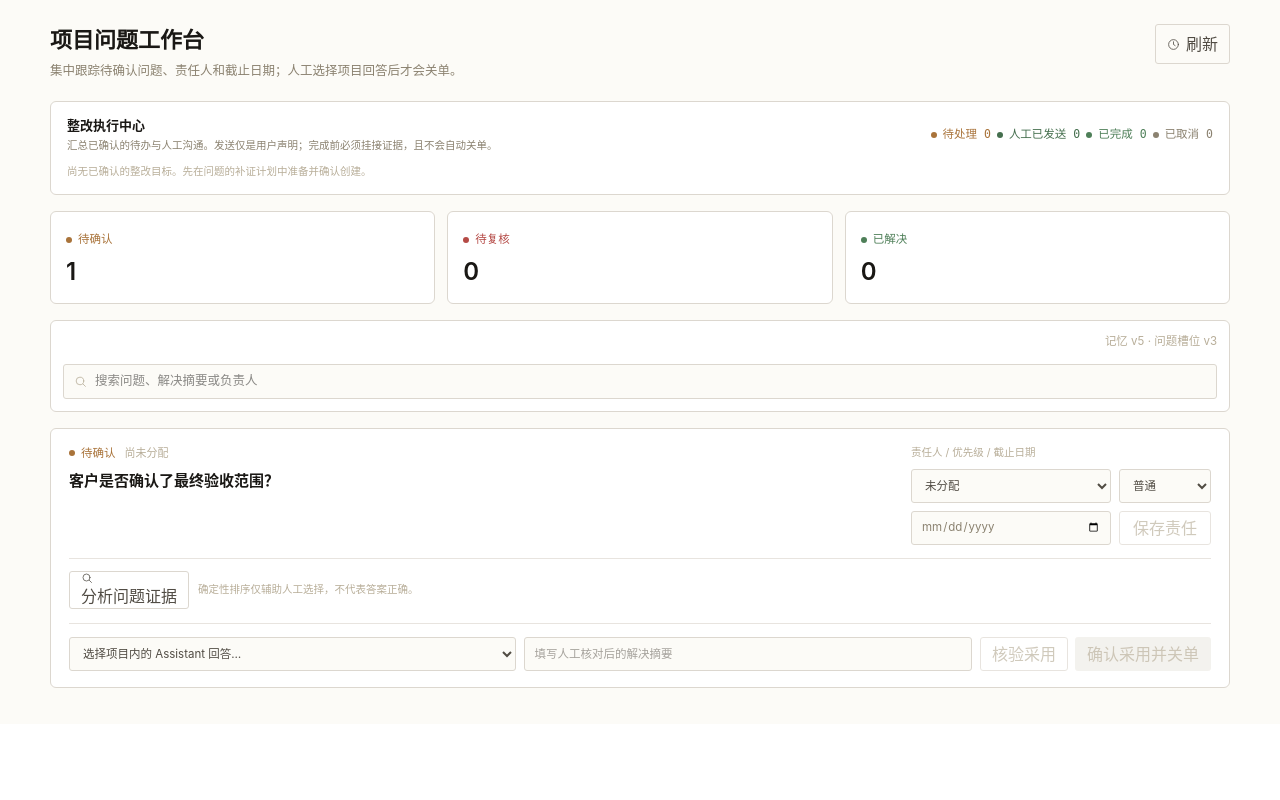
Test: project question workbench › saves owner, priority, and due date with the exact profile revision
Expected: the heading "客户是否确认了最终验收范围？" is shown, [69,471,279,490]
Select "交付经理" in the dropdown named "问题负责人" at (1011, 486), box [911,468,1111,502]
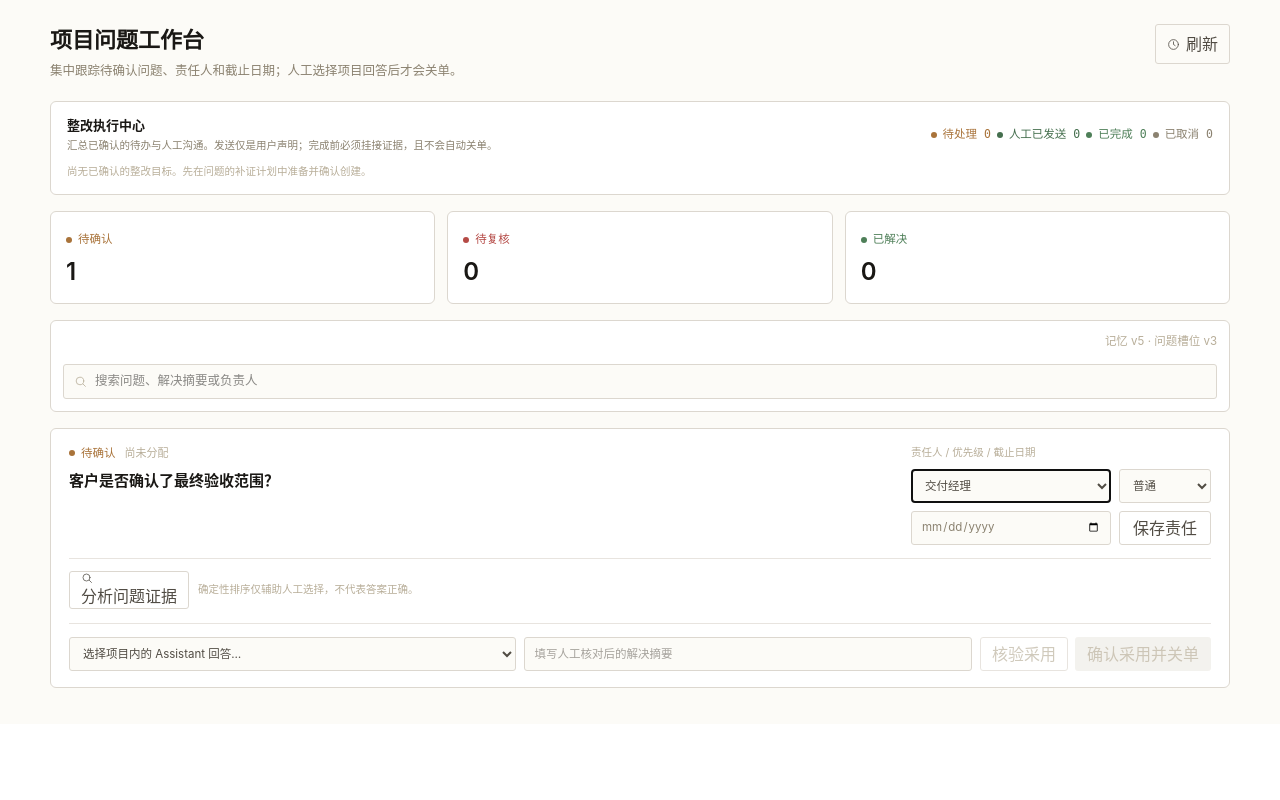
Select "高" in the dropdown named "问题优先级" at (1165, 486), box [1119,468,1211,502]
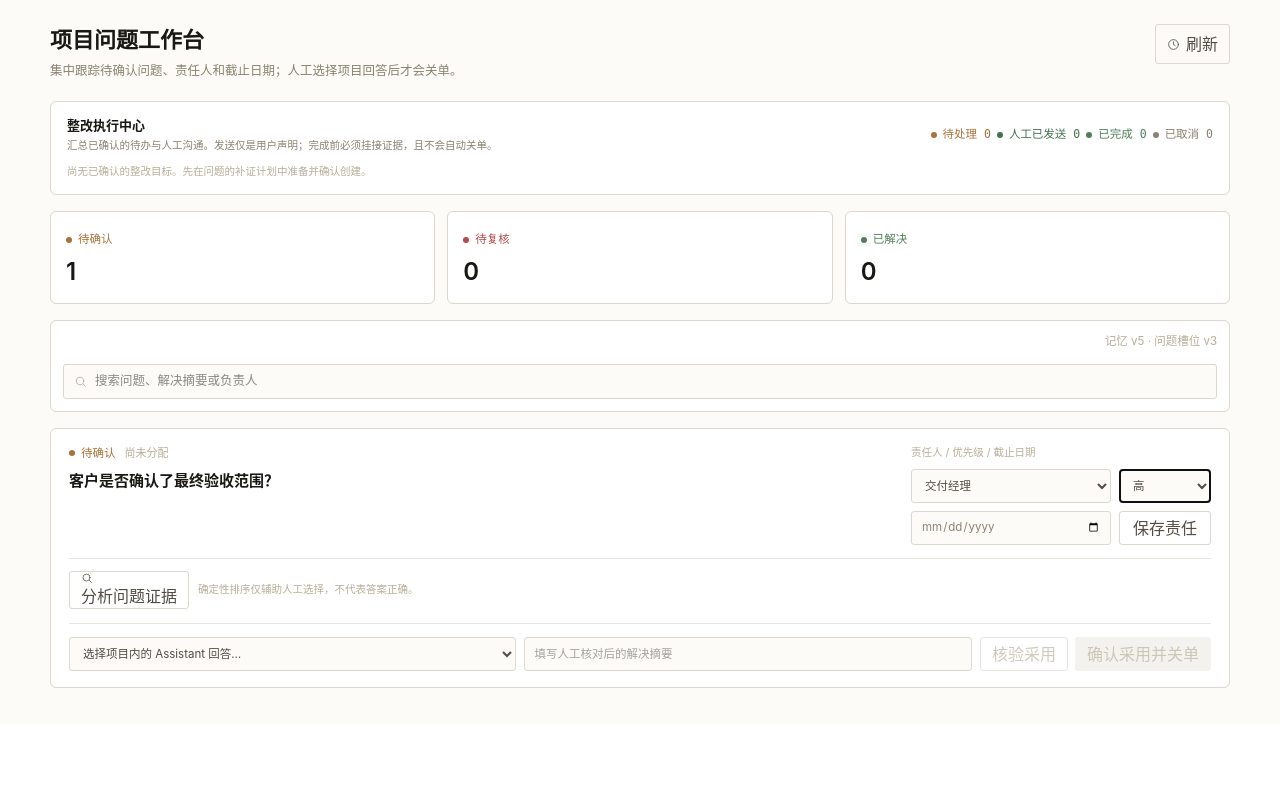
Type "2026-09-15" into the date field named "问题截止日期" at (1011, 528), box [911,510,1111,544]
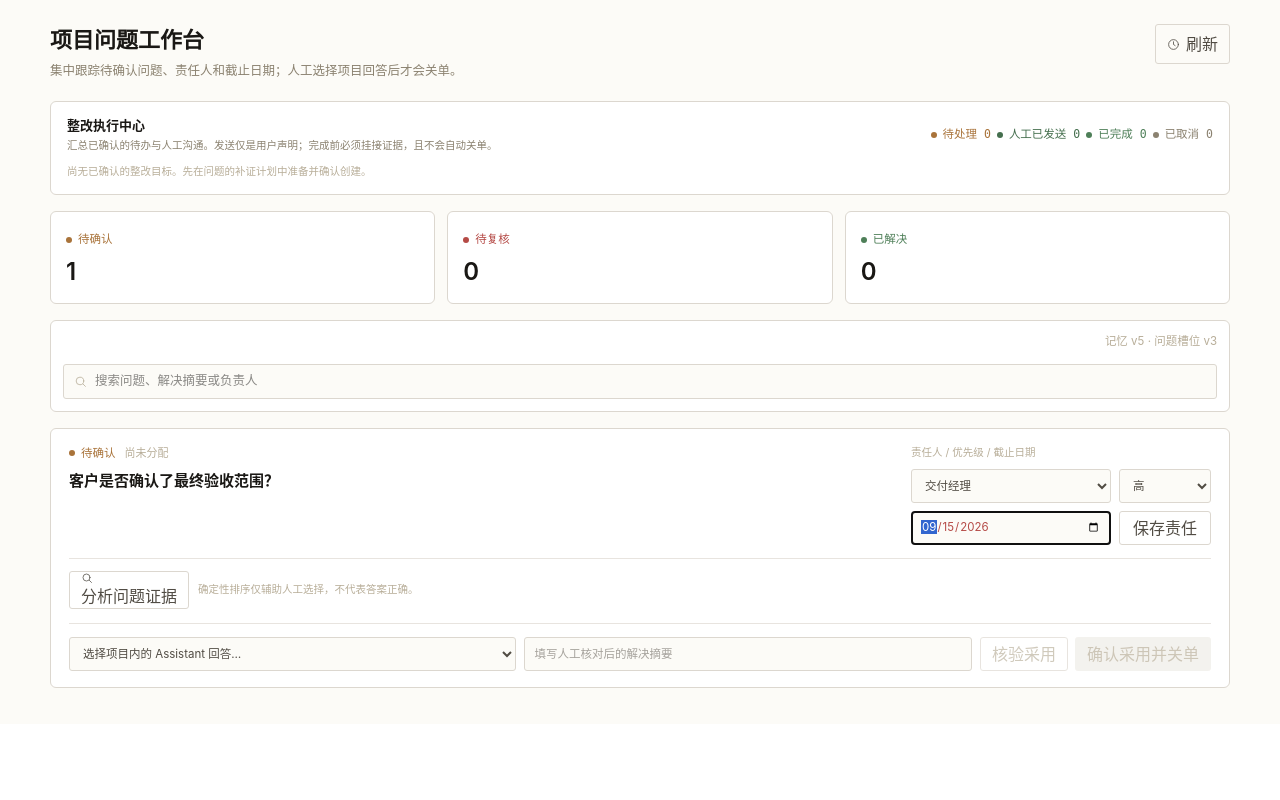
Click the button "保存责任" at (1165, 528), box [1119,510,1211,544]
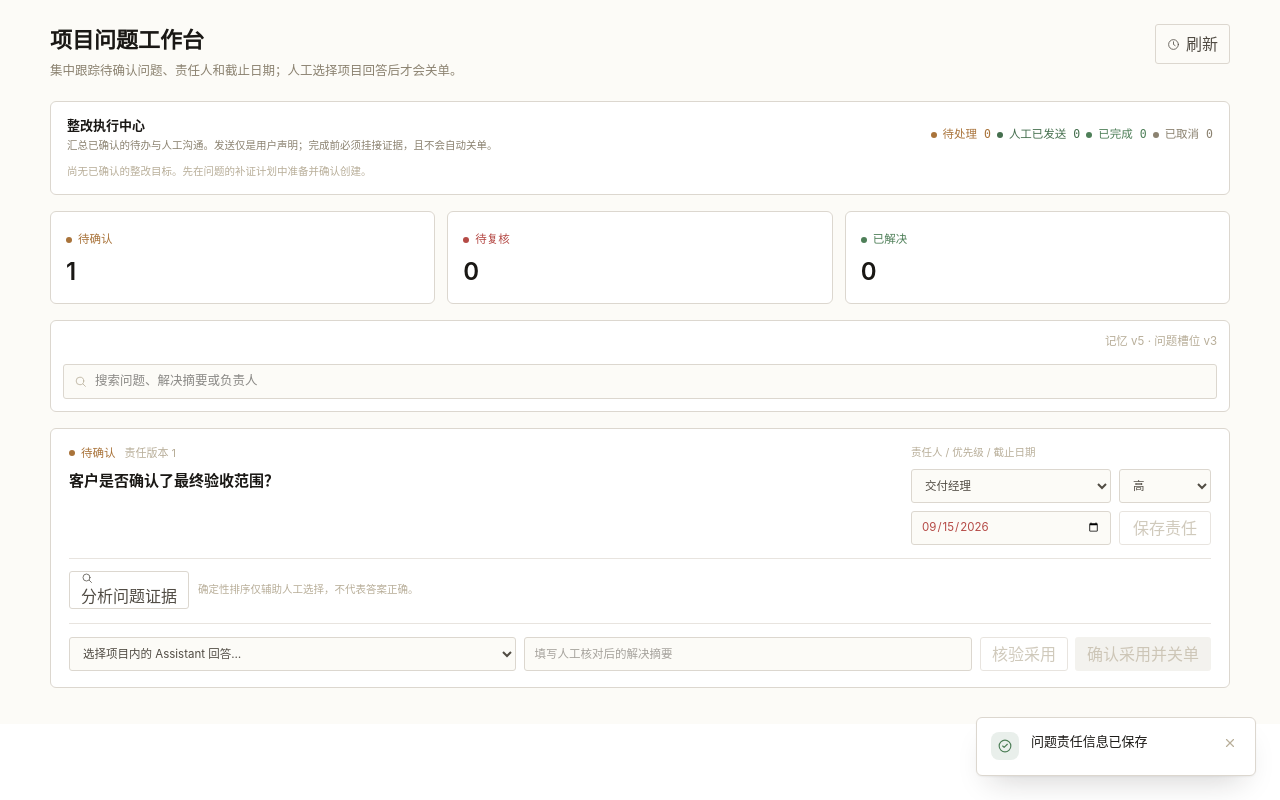
Now the text "责任版本 1" is shown, box [124,445,176,462]
